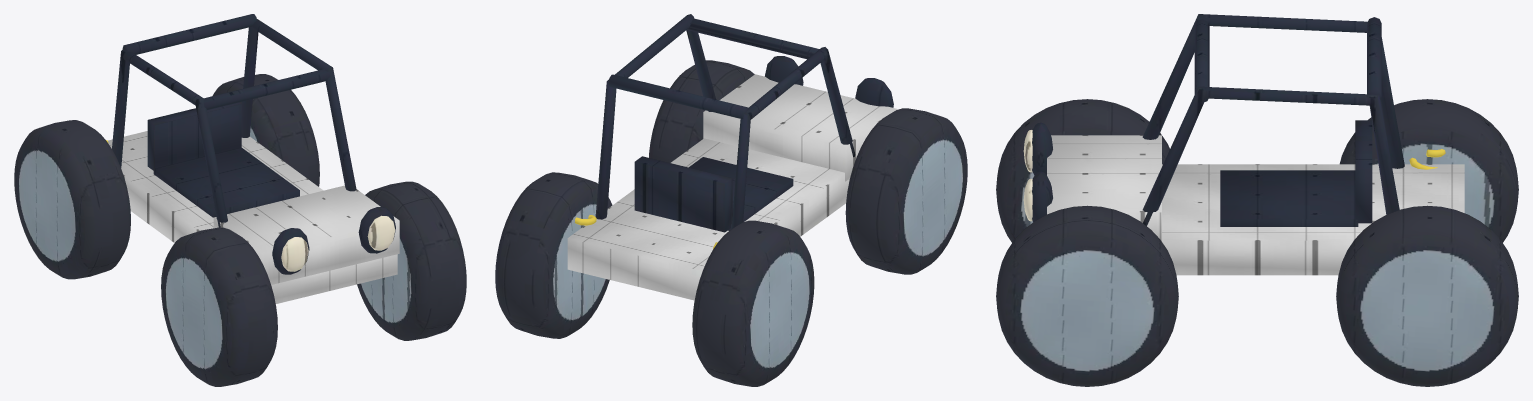
Rendered from buggy.glb.
The picture shows the model from 3 angles, left to right: view 1: azimuth 30°, elevation 25°; view 2: azimuth 150°, elevation 25°; view 3: azimuth 270°, elevation 25°; orthographic projection. The views are drawn at different scales.
Visible parts, largest first — view 1: body_details, body_paint, wheel_FR, wheel_RR, wheel_FL, wheel_RL; view 2: body_paint, body_details, wheel_RR, wheel_FR, wheel_RL, wheel_FL; view 3: wheel_RL, wheel_FL, body_paint, body_details, wheel_RR, wheel_FR.
Boxes of the visible parts, x1,y1,x2,y2 form: body_details: (112, 14, 395, 274); body_paint: (108, 131, 399, 303); wheel_FR: (161, 227, 277, 386); wheel_RR: (14, 120, 130, 279); wheel_FL: (357, 181, 466, 340); wheel_RL: (212, 74, 319, 186); body_paint: (567, 74, 897, 300); body_details: (595, 14, 893, 232); wheel_RR: (692, 220, 814, 386); wheel_FR: (845, 108, 967, 274); wheel_RL: (495, 172, 612, 338); wheel_FL: (649, 60, 754, 162); wheel_RL: (1336, 205, 1518, 386); wheel_FL: (996, 205, 1178, 386); body_paint: (1047, 135, 1464, 275); body_details: (1023, 14, 1404, 226); wheel_RR: (1339, 99, 1518, 242); wheel_FR: (996, 99, 1169, 242).
Size of the model in its own units: 1.6 by 1.51 by 2.6.
2 materials, 2 textured.
